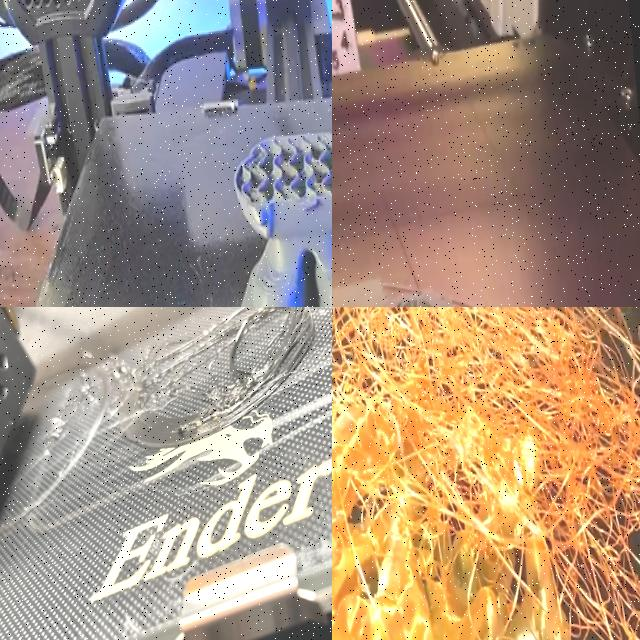spaghetti: (332, 307, 640, 640), (73, 307, 317, 445)
